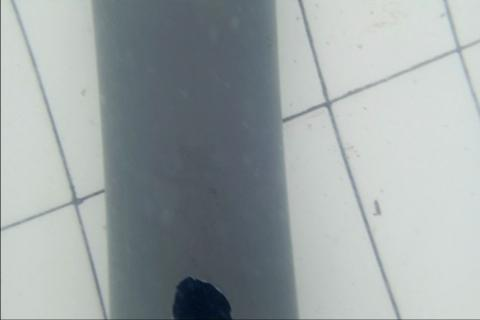kebocoran: (169, 274, 233, 319)
